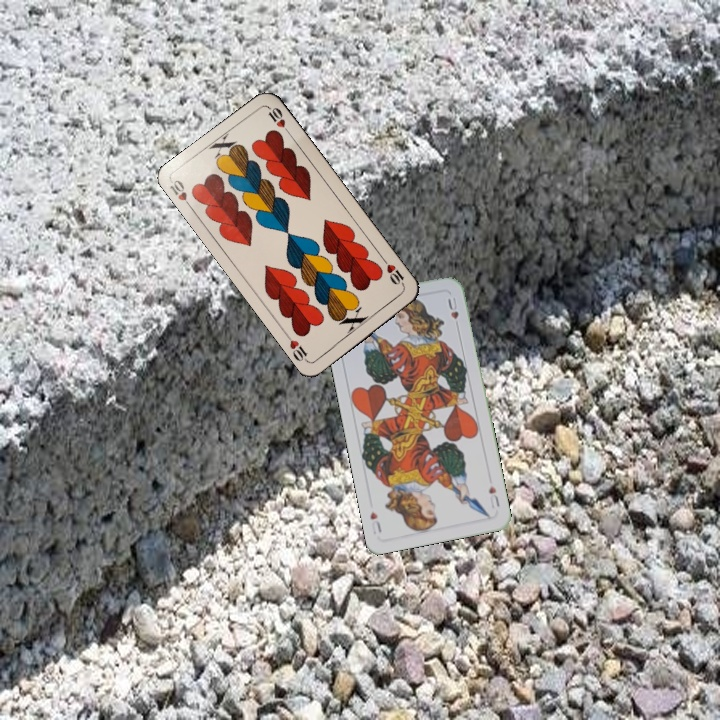H10: (166, 175, 196, 213), (379, 254, 408, 290)
HU: (485, 482, 502, 511)
